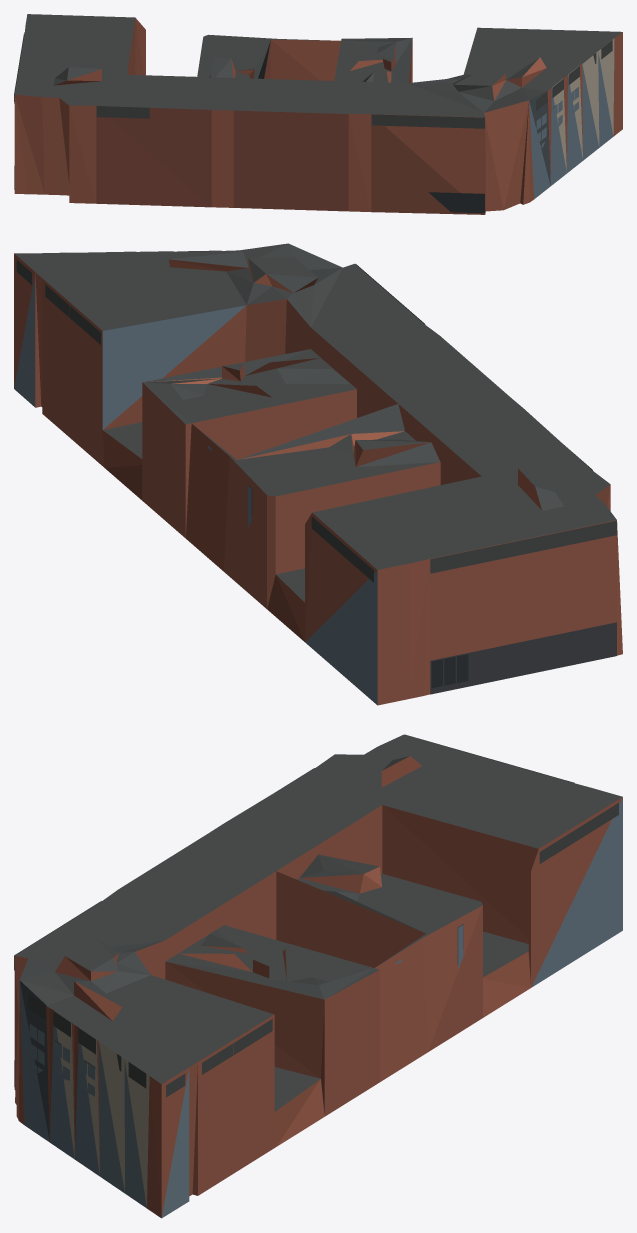
The model's file is jodenbreestraat-11.lod2.glb.
3 renders of one model, top to bottom at view 1: azimuth 30°, elevation 25°; view 2: azimuth 150°, elevation 25°; view 3: azimuth 270°, elevation 25°, orthographic. The views are drawn at different scales.
Visible parts, largest first — view 1: lod2; view 2: lod2; view 3: lod2.
Part boxes in pixels (box(x1,y1,x2,y2)): lod2: box(14, 14, 622, 214); lod2: box(14, 243, 622, 705); lod2: box(14, 734, 622, 1218).
Size of the model in its own units: 129 by 25.79 by 94.16.
